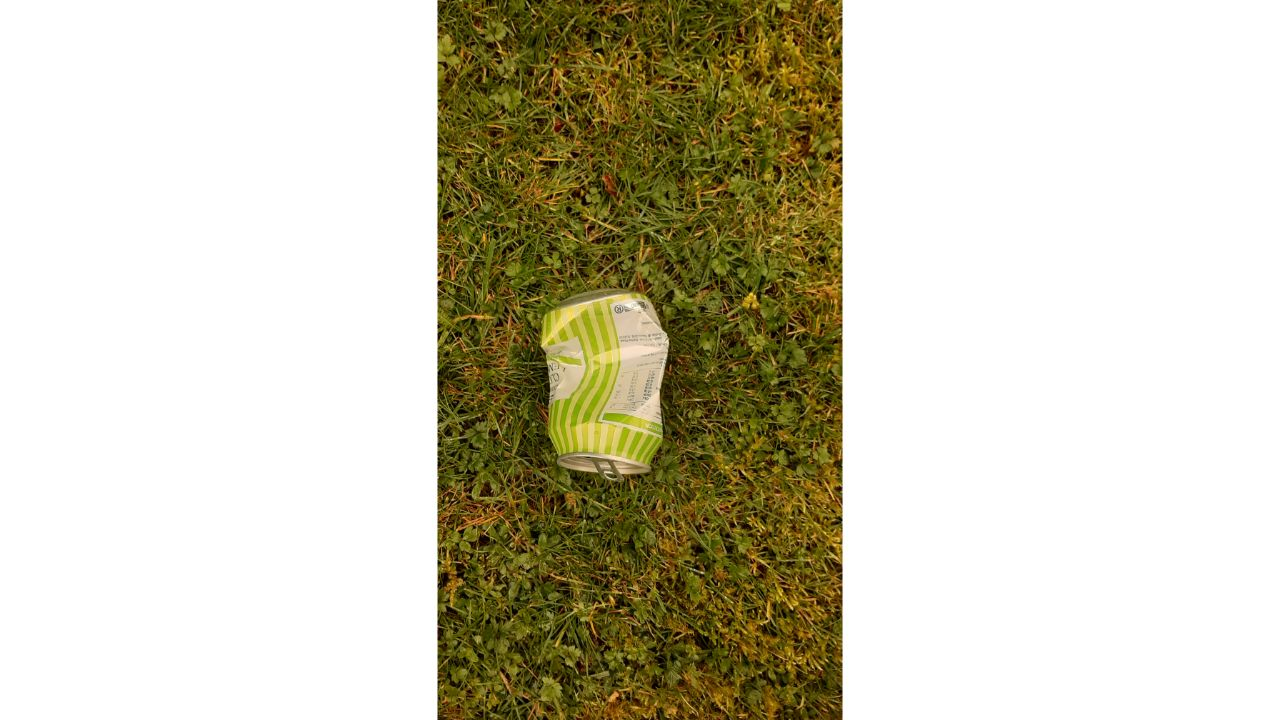Can: (539, 289, 671, 482)
